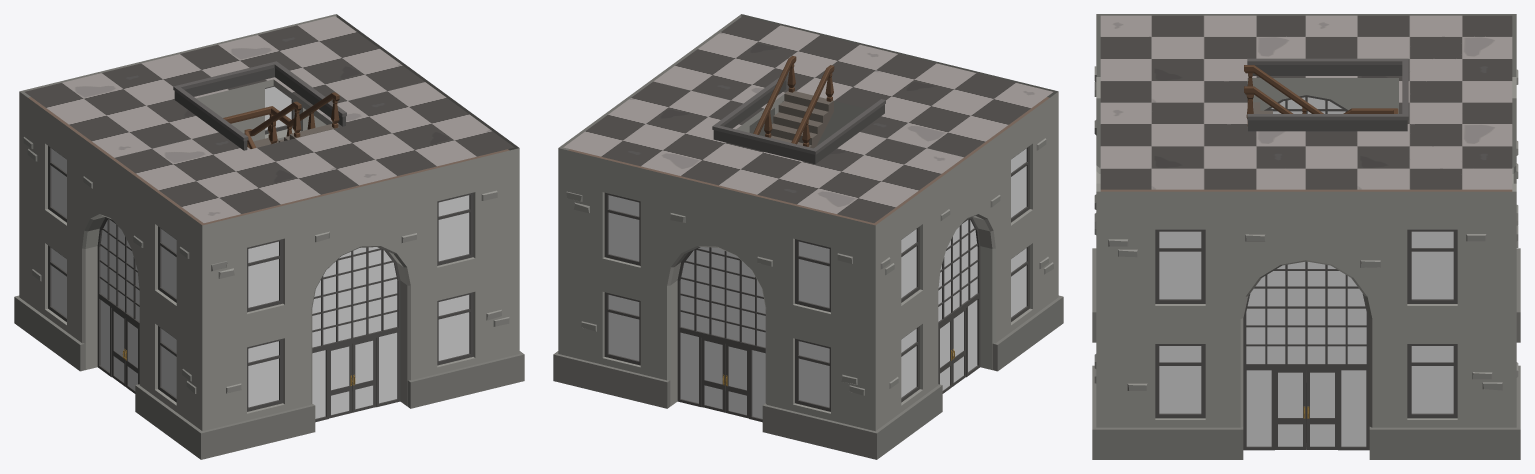
Rendered from SM_Bldg_City_High-Rise_04_Base.fbx.
The picture shows the model from 3 angles, left to right: view 1: azimuth 30°, elevation 25°; view 2: azimuth 150°, elevation 25°; view 3: azimuth 270°, elevation 25°; orthographic projection. The views are drawn at different scales.
Visible parts, largest first — view 1: SM_Bldg_City_High-Rise_04_Base, SM_Bldg_City_High-Rise_04_Base_Glass; view 2: SM_Bldg_City_High-Rise_04_Base, SM_Bldg_City_High-Rise_04_Base_Glass; view 3: SM_Bldg_City_High-Rise_04_Base, SM_Bldg_City_High-Rise_04_Base_Glass.
Part boxes in pixels (bbox=[...]): SM_Bldg_City_High-Rise_04_Base: bbox=[14, 14, 524, 459]; SM_Bldg_City_High-Rise_04_Base_Glass: bbox=[51, 86, 469, 418]; SM_Bldg_City_High-Rise_04_Base: bbox=[553, 14, 1063, 459]; SM_Bldg_City_High-Rise_04_Base_Glass: bbox=[608, 148, 1026, 418]; SM_Bldg_City_High-Rise_04_Base: bbox=[1092, 14, 1520, 459]; SM_Bldg_City_High-Rise_04_Base_Glass: bbox=[1159, 97, 1453, 446].
Size of the model in its own units: 1020 by 815 by 1020.
